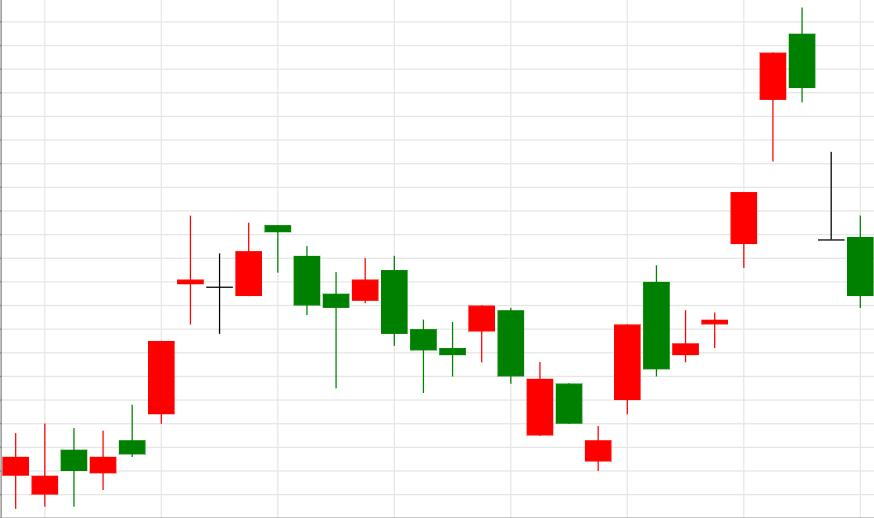hanging_man_fall: (585, 53, 787, 472)
